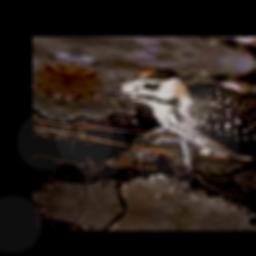Woodpecker: (66, 57, 256, 183)
